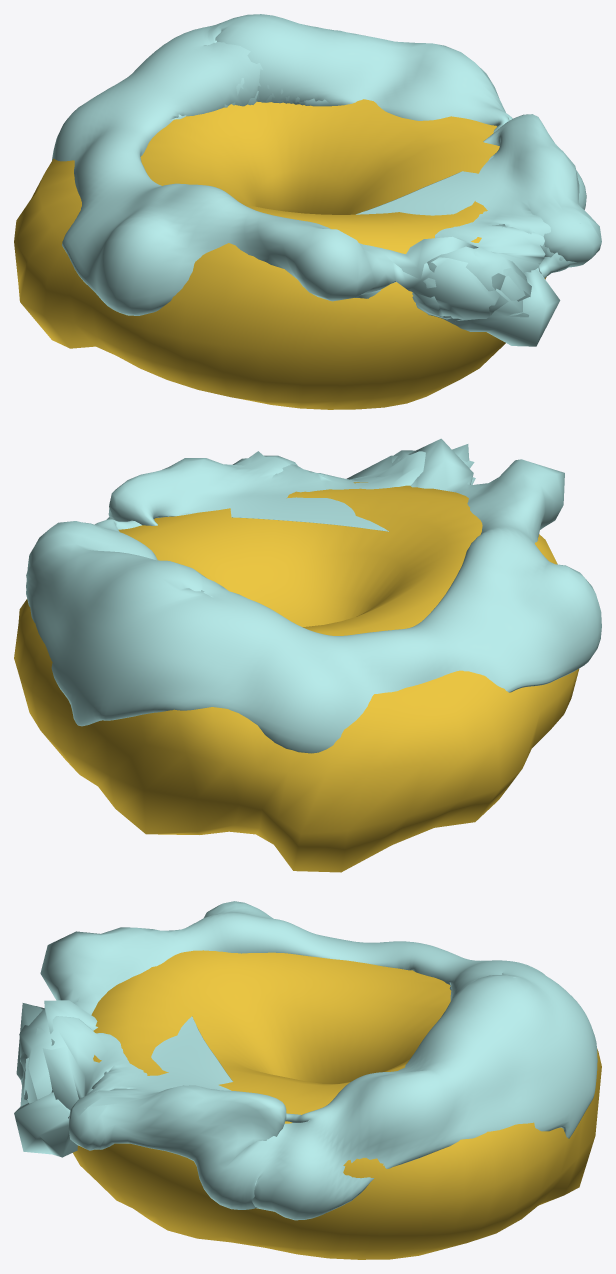
File: donut.glb
The picture shows the model from 3 angles, top to bottom: view 1: azimuth 30°, elevation 25°; view 2: azimuth 150°, elevation 25°; view 3: azimuth 270°, elevation 25°; orthographic projection. The views are drawn at different scales.
Visible parts, largest first — view 1: Icing, Donut; view 2: Donut, Icing; view 3: Icing, Donut.
Part boxes in pixels (x1,y1,x2,y2): Icing: (52, 14, 601, 346); Donut: (14, 99, 546, 409); Donut: (14, 482, 579, 872); Icing: (26, 438, 601, 753); Icing: (14, 901, 597, 1220); Donut: (73, 950, 601, 1259).
Size of the model in its own units: 0.1075 by 0.0539 by 0.1149.
